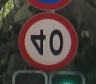Speed limit: (13, 12, 87, 68)
